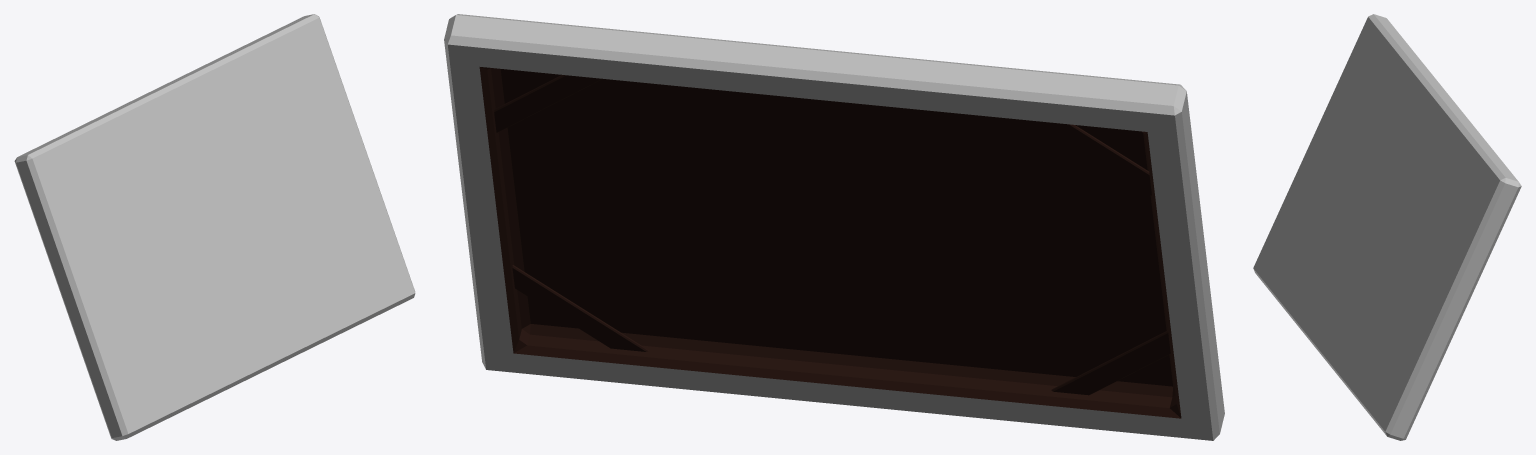
File: toile_vide.FBX
The picture shows the model from 3 angles, left to right: view 1: azimuth 30°, elevation 25°; view 2: azimuth 150°, elevation 25°; view 3: azimuth 270°, elevation 25°; orthographic projection. The views are drawn at different scales.
Visible parts, largest first — view 1: Box141; view 2: Box141; view 3: Box141.
Part boxes in pixels (x1,y1,x2,y2): Box141: (14, 14, 415, 440); Box141: (444, 14, 1224, 440); Box141: (1253, 14, 1521, 440).
Size of the model in its own units: 84.81 by 50.42 by 52.09.
